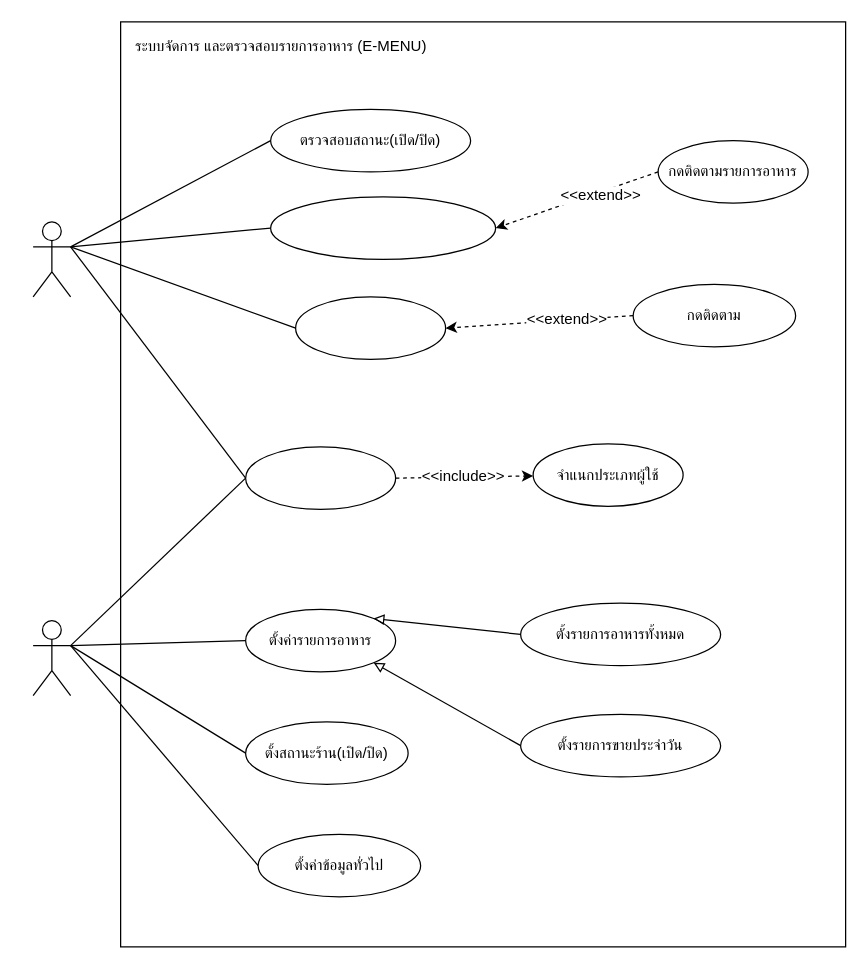
Some shapes in this 868 by 969 pixel diagram are drawn without their labels. The shapes that lost their labels are listed below. From the top down, each one's centre as x and y in pixels, then its label:
the point at 382,227: ตรวจสอบรายการอาหารประจำวัน
the point at 51,259: ลูกค้า
the point at 370,327: เลือกดูร้านอาหารที่สนใจ
the point at 320,477: เข้าสู่ระบบ
the point at 51,657: เจ้าของร้าน
